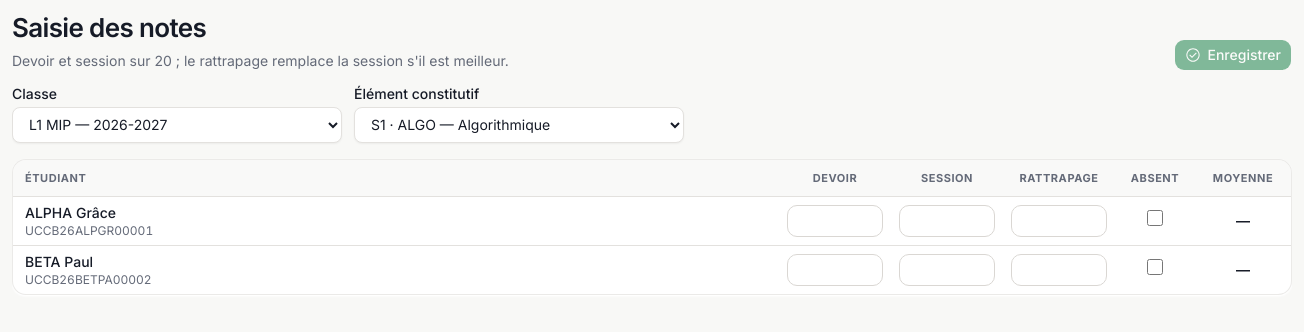
Scolarité — saisie des notes › signale la cellule en erreur et garde la saisie des autres
Type "12" into the field named "Devoir — ALPHA Grâce".
click(835, 220); type("12")  # box top-left (787, 204), bottom-right (883, 236)
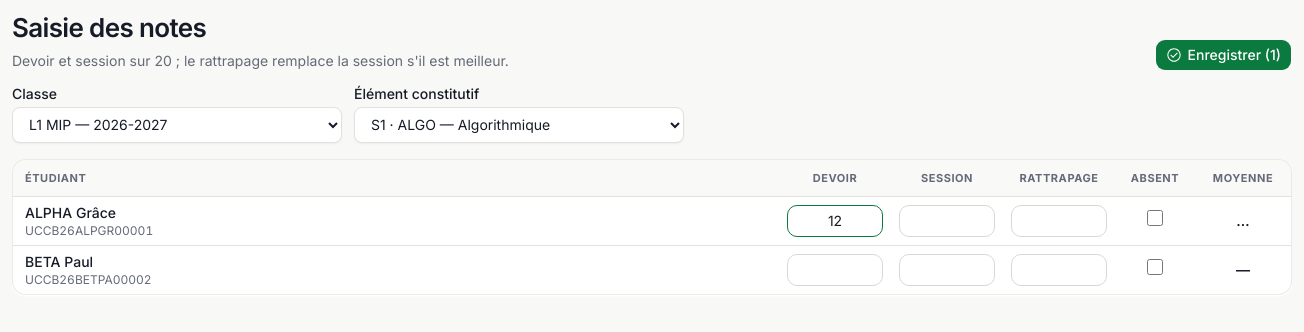
Type "14" into the field named "Session — ALPHA Grâce".
click(947, 220); type("14")  # box top-left (899, 204), bottom-right (995, 236)
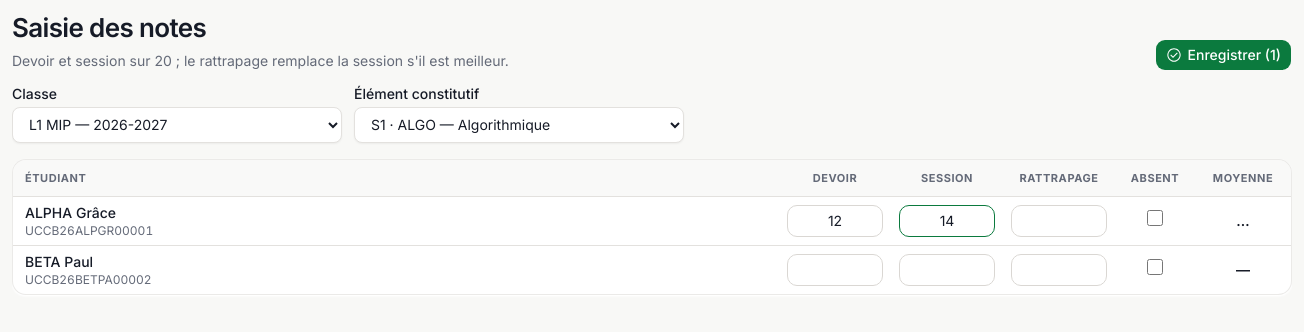
Type "21" into the field named "Devoir — BETA Paul".
click(835, 270); type("21")  # box top-left (787, 254), bottom-right (883, 286)
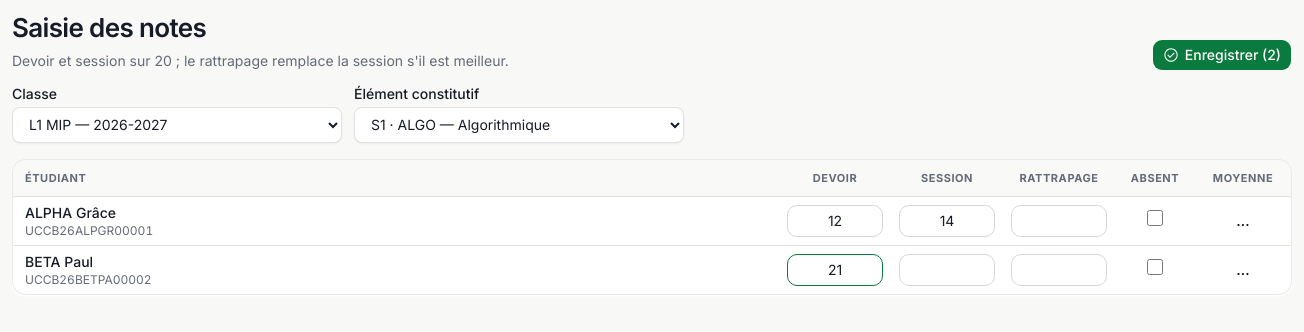
Click the button "Enregistrer (2)".
click(1222, 54)  # box top-left (1152, 38), bottom-right (1292, 70)
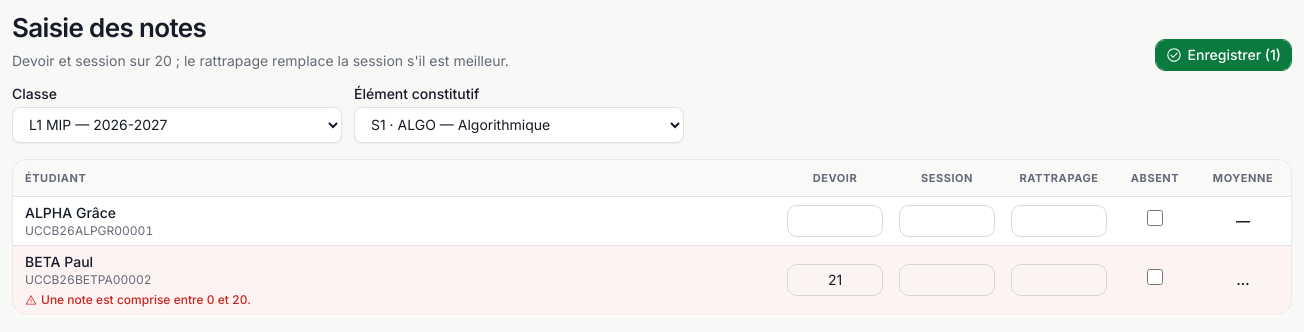
Expected: the text "Une note est comprise entre 0 et 20." is shown, top-left (25, 292), bottom-right (251, 306)
